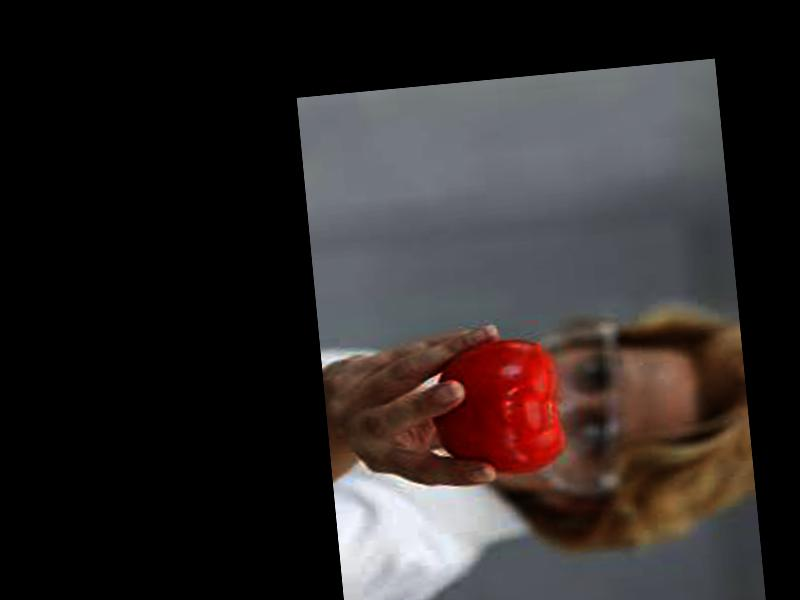Tomato: (430, 336, 565, 483)
